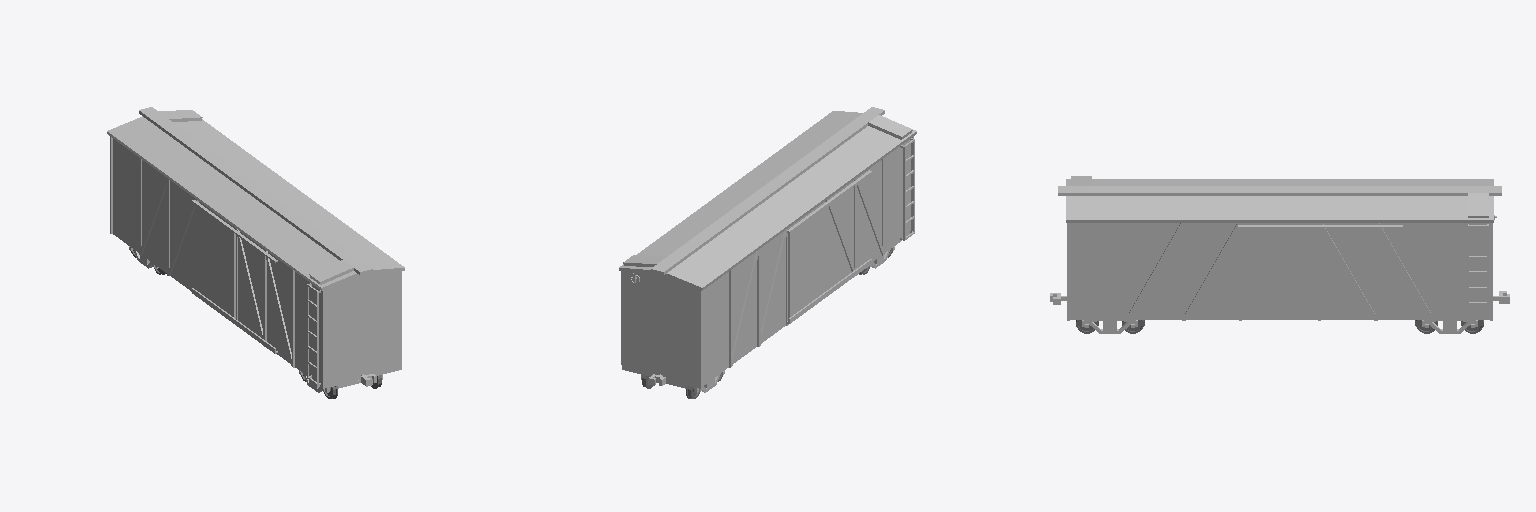
The model's file is dlxtrains_industrial_wagons_covered_goods_type1.obj.
3 views of the same model, side by side, from view 1: azimuth 30°, elevation 25°; view 2: azimuth 150°, elevation 25°; view 3: azimuth 270°, elevation 25° (orthographic).
Parts seen in each view (by area): view 1: dlxtrains_industrial_wagons_covered_goods_type1; view 2: dlxtrains_industrial_wagons_covered_goods_type1; view 3: dlxtrains_industrial_wagons_covered_goods_type1.
Part boxes in pixels (bbox=[...]): dlxtrains_industrial_wagons_covered_goods_type1: bbox=[107, 107, 404, 398]; dlxtrains_industrial_wagons_covered_goods_type1: bbox=[619, 107, 916, 398]; dlxtrains_industrial_wagons_covered_goods_type1: bbox=[1050, 176, 1509, 333].
Bounding box in the file's own units: 17.5 × 25.92 × 81.25.